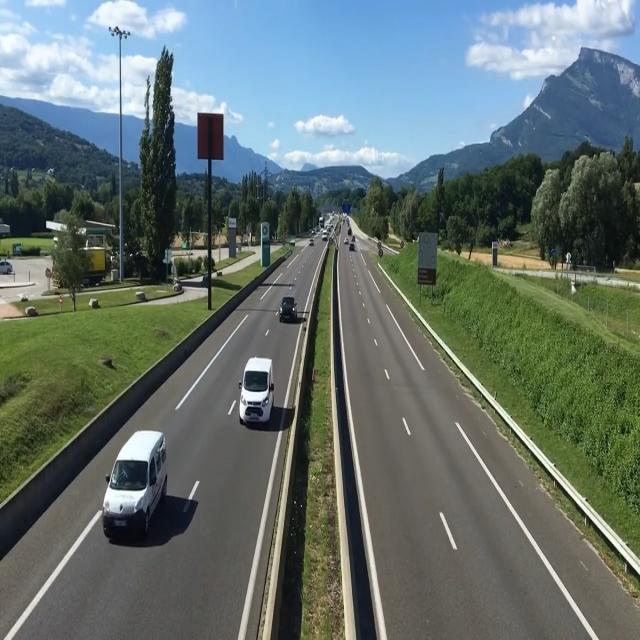car: (102, 433, 174, 544), (239, 355, 275, 430), (277, 282, 301, 326)
